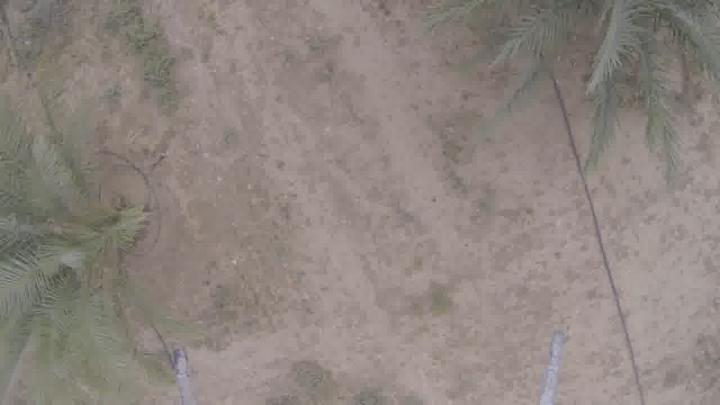Date-Palm-Crown: (0, 166, 124, 340), (508, 1, 712, 96)
